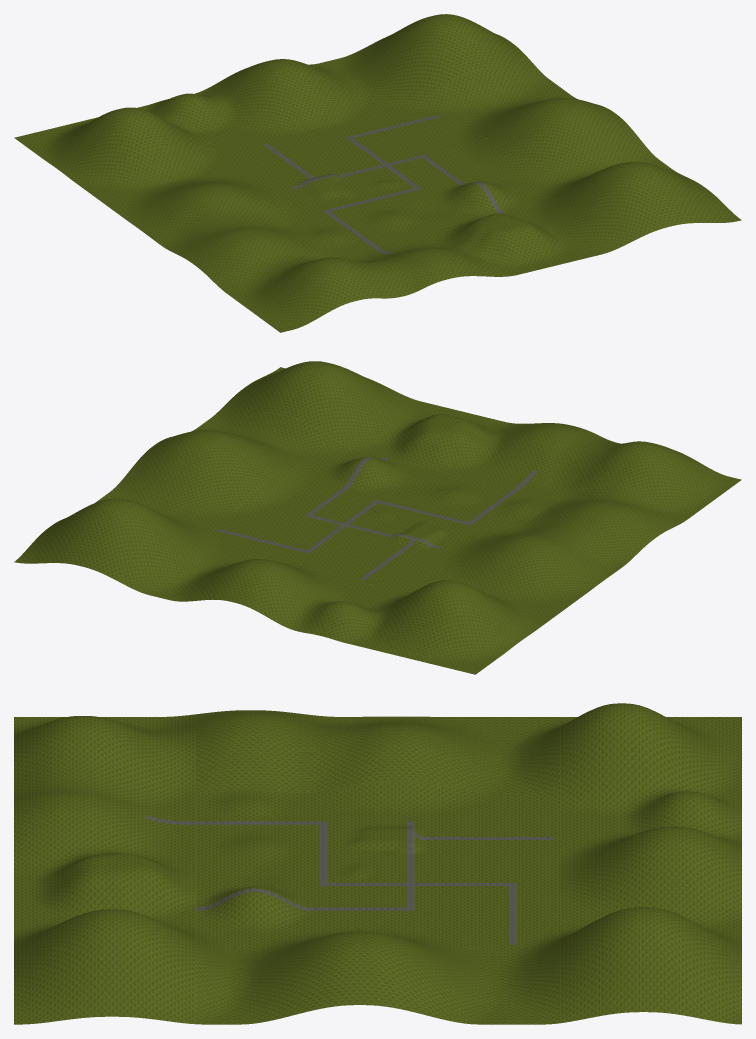
File: StageMap.gltf
3 renders of one model, top to bottom at view 1: azimuth 30°, elevation 25°; view 2: azimuth 150°, elevation 25°; view 3: azimuth 270°, elevation 25°, orthographic. The views are drawn at different scales.
Visible parts, largest first — view 1: StageMap.001; view 2: StageMap.001; view 3: StageMap.001.
Boxes of the visible parts, x1,y1,x2,y2 form: StageMap.001: [14, 14, 741, 332]; StageMap.001: [14, 361, 741, 674]; StageMap.001: [14, 703, 741, 1024].
Bounding box in the file's own units: 120 × 12.35 × 120.
Materials: 2 (2 with a texture image).
